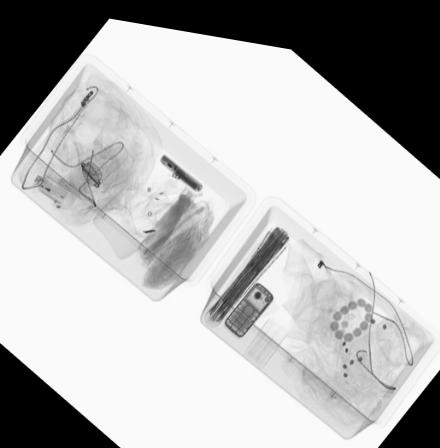Lighter: (31, 172, 68, 201)
